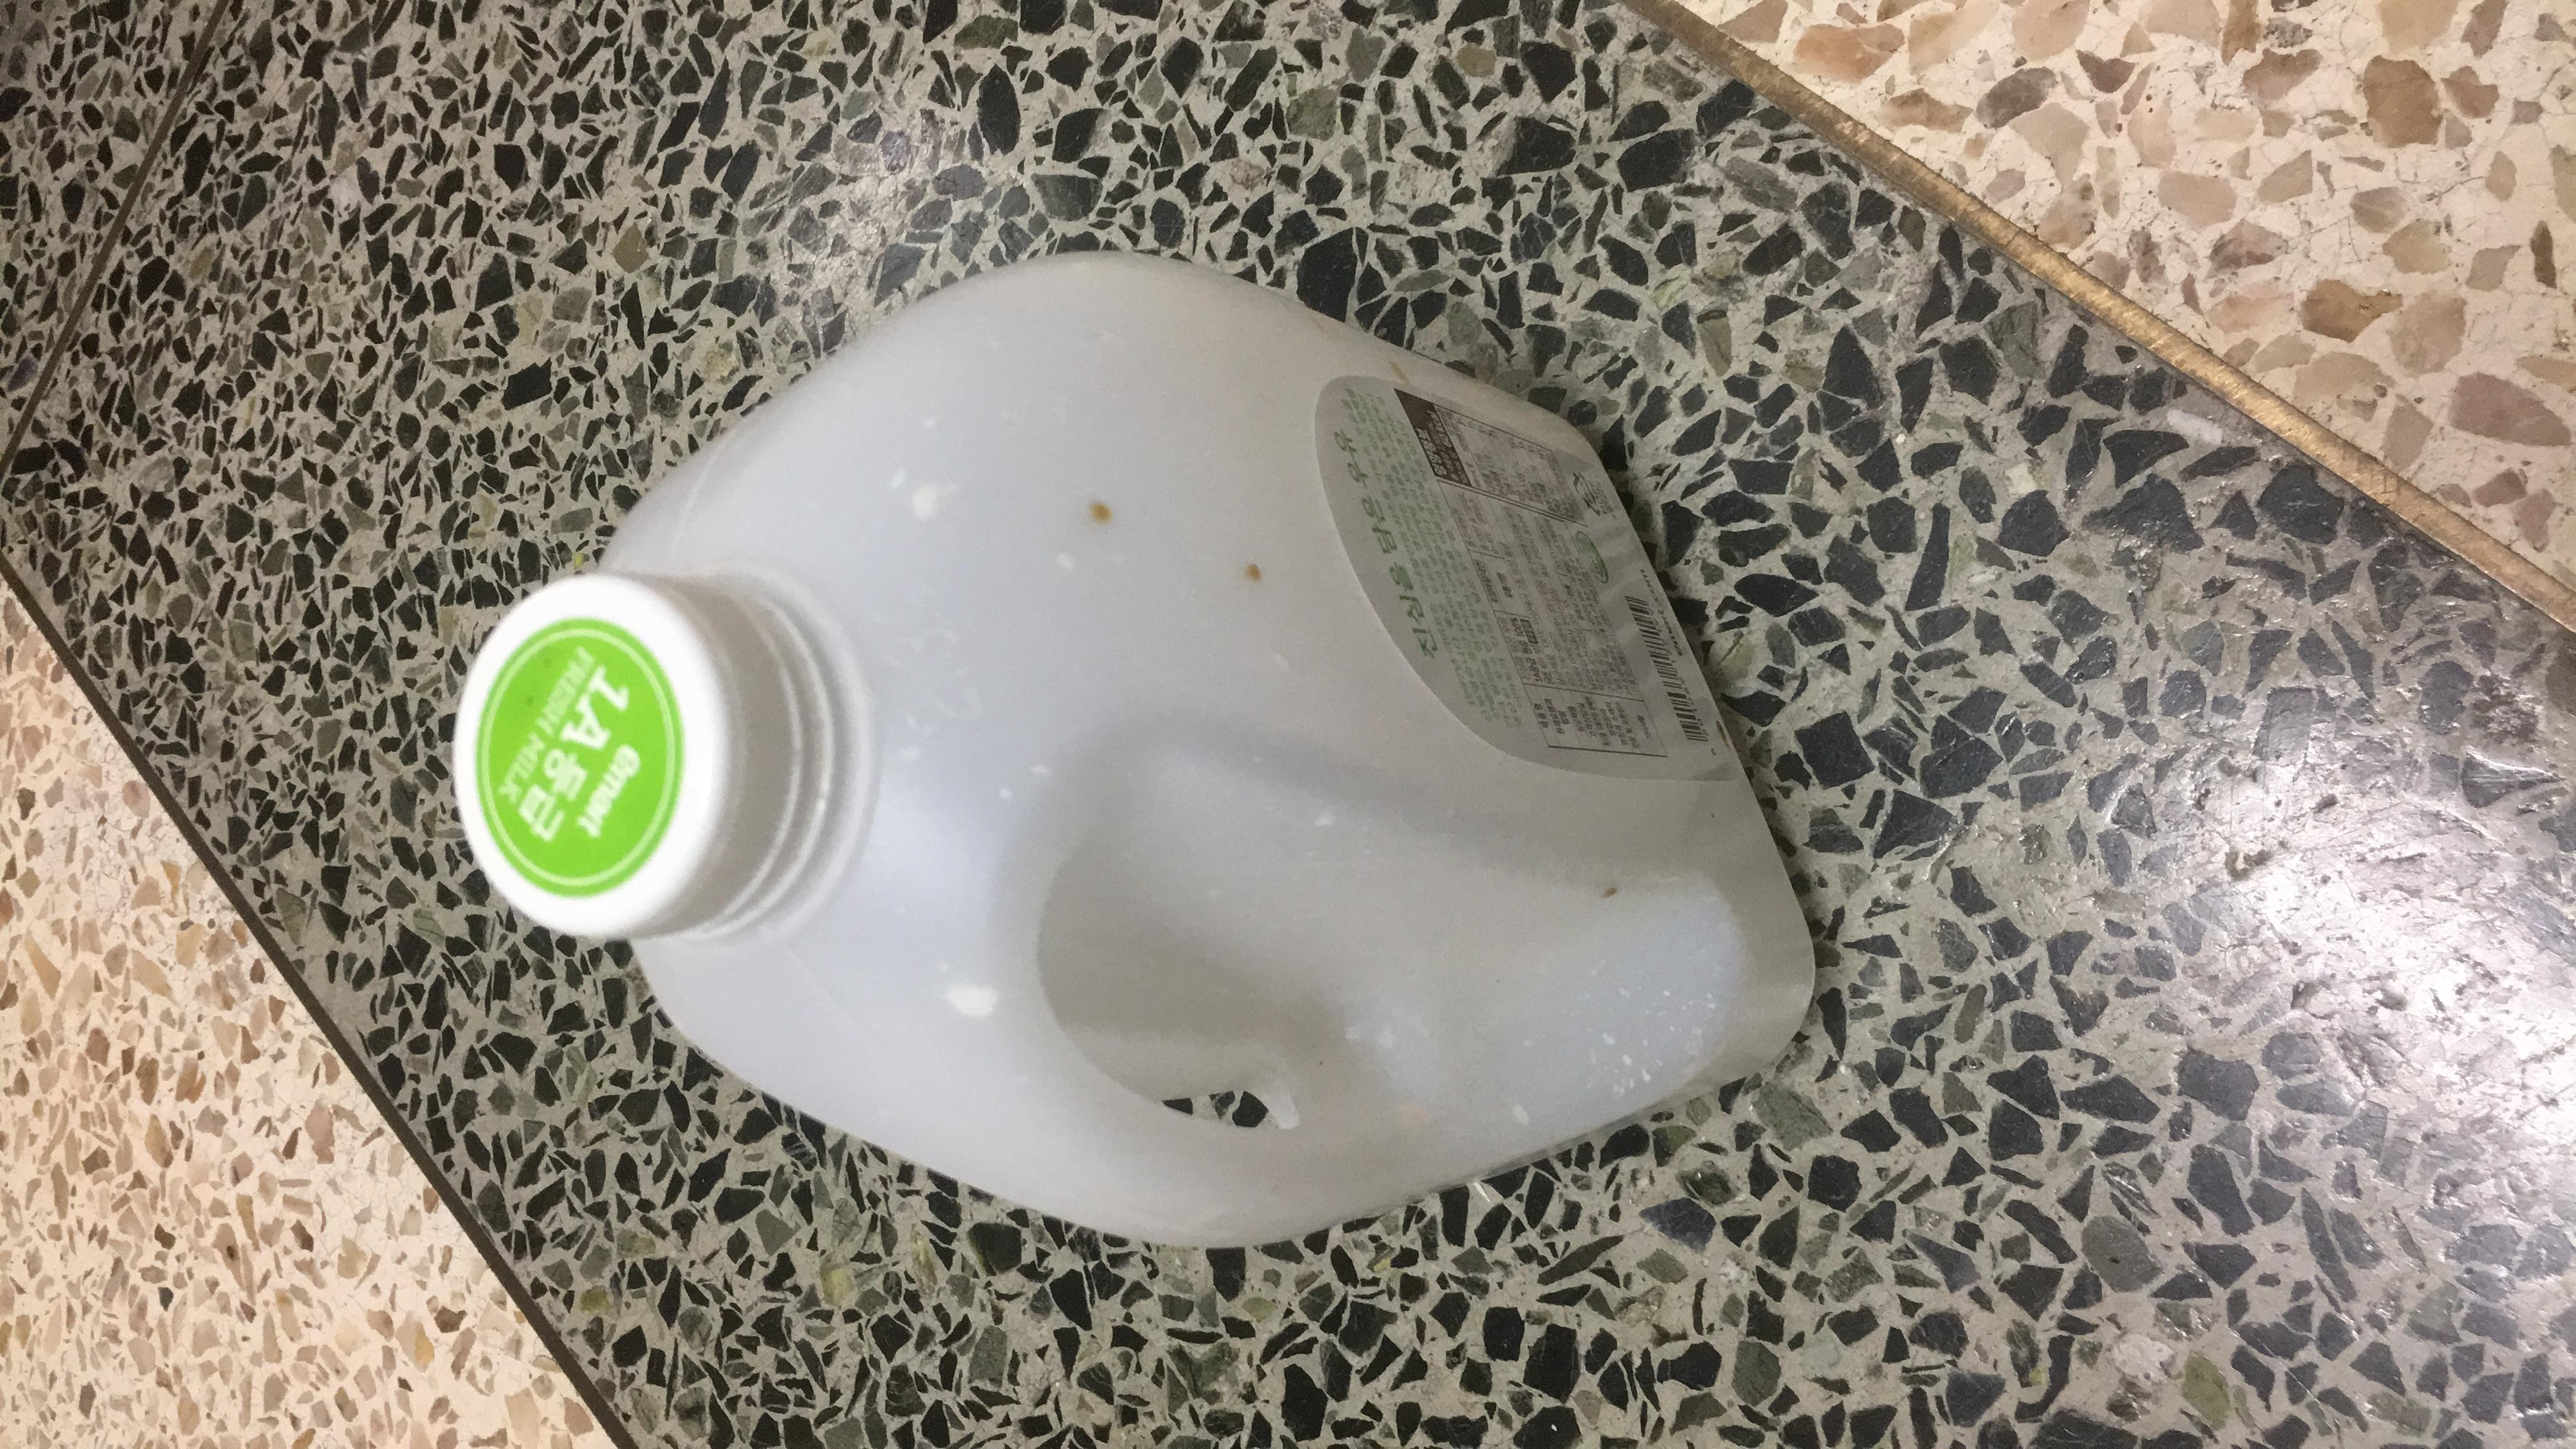bottle: (138, 239, 1950, 1056)
